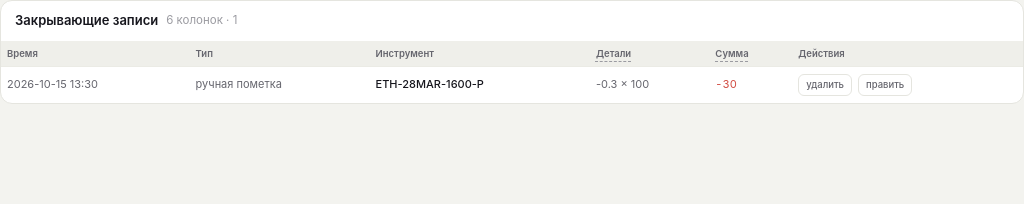
Test: таблица закрывающих записей: подсказки заголовков колонок › даёт подсказку колонке «Сумма» с назначением без метода
// наведение на заголовок колонки суммы.
Hover over the button "Сумма" at x=732, y=53, box [715,46,749,60]
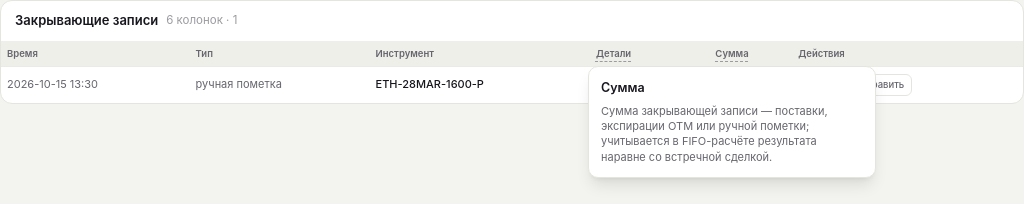
Expected: the tooltip does not show "Сумма реализованного и нереализованного P&L позиций и внешних корректировок PnL.", [588,66,876,178]
Expected: the tooltip shows "Сумма", [601,80,645,95]
Expected: the tooltip shows "Сумма закрывающей записи — поставки, экспирации OTM или ручной пометки; учитывается в FIFO-расчёте результата наравне со встречной сделкой.", [601,104,828,164]
